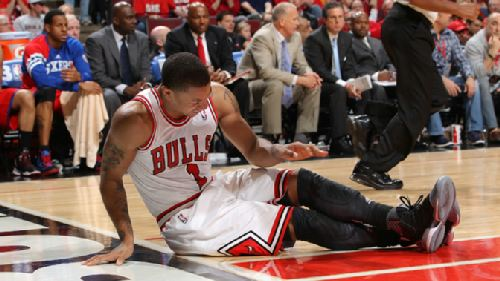10+: (1, 1, 500, 271)
down: (76, 46, 470, 272)
